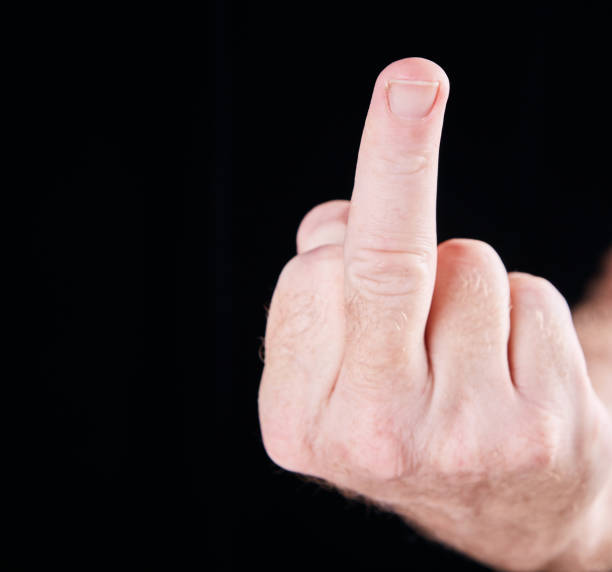insulting_gesture: (260, 54, 592, 572)
